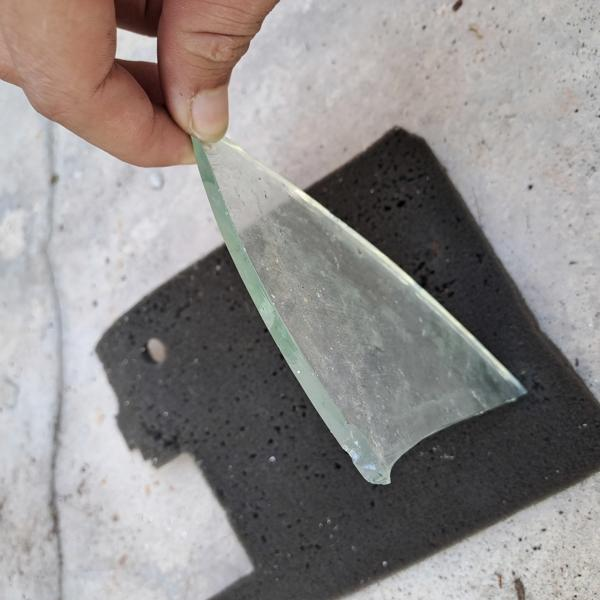Anorganik: (181, 127, 553, 491)
